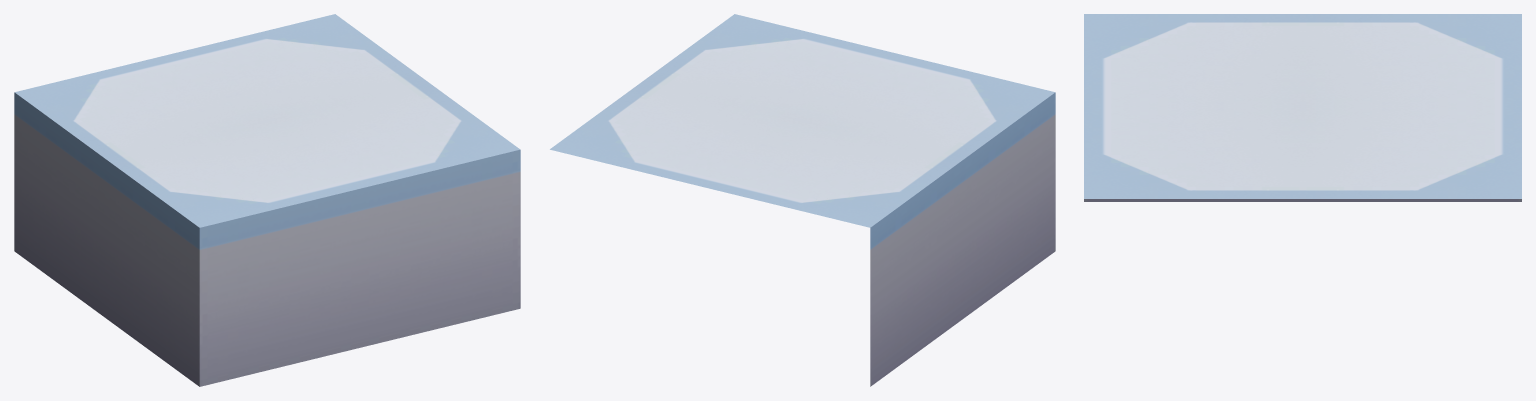
The model's file is my_cafe_01_b_tile.glb.
3 renders of one model, left to right at view 1: azimuth 30°, elevation 25°; view 2: azimuth 150°, elevation 25°; view 3: azimuth 270°, elevation 25°, orthographic. The views are drawn at different scales.
Parts seen in each view (by area): view 1: my_cafe_01_b_tile; view 2: my_cafe_01_b_tile; view 3: my_cafe_01_b_tile.
Part boxes in pixels (bbox=[...]): my_cafe_01_b_tile: bbox=[14, 14, 520, 386]; my_cafe_01_b_tile: bbox=[550, 14, 1055, 386]; my_cafe_01_b_tile: bbox=[1084, 14, 1521, 201].
Size of the model in its own units: 0.006 by 0.00284 by 0.006.
Materials: 1 (1 with a texture image).
